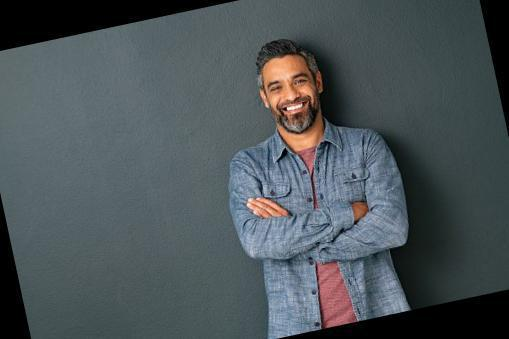Sober: (265, 60, 317, 130)
